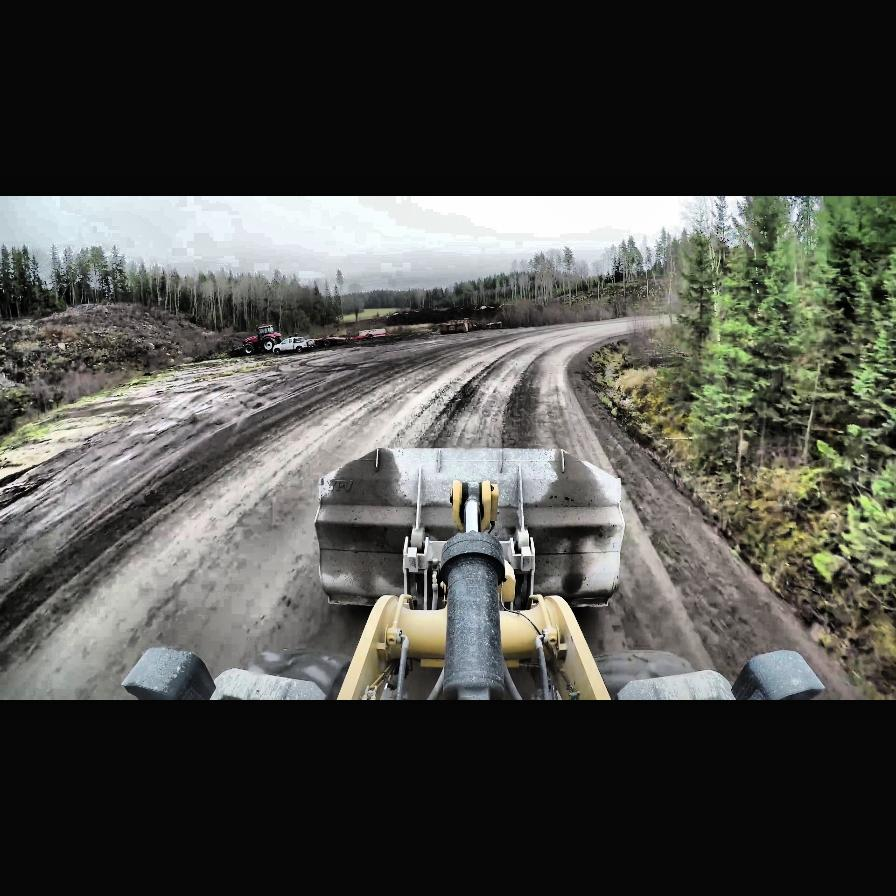anchor: (451, 480, 497, 534)
